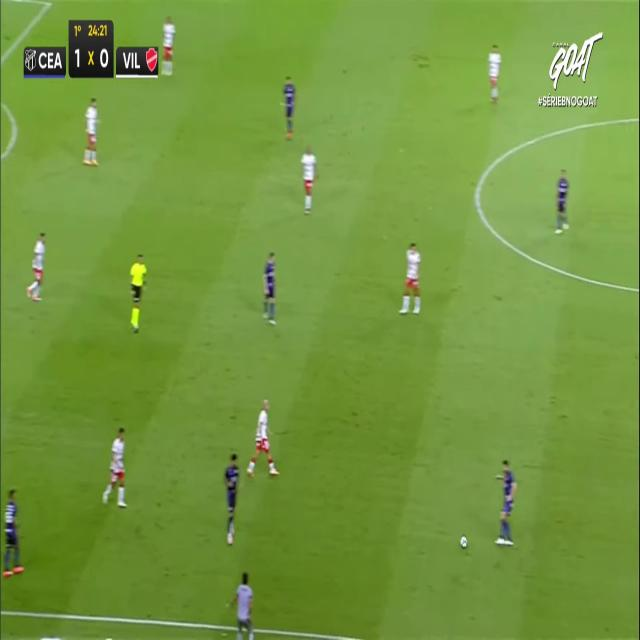ball: (460, 533, 467, 550)
player: (247, 397, 279, 476), (102, 427, 127, 507), (494, 458, 516, 543), (2, 489, 23, 576), (399, 241, 420, 315), (224, 452, 240, 544), (26, 231, 46, 301), (83, 97, 100, 165), (301, 144, 316, 213), (281, 75, 296, 138), (263, 251, 276, 323), (555, 167, 569, 232), (162, 14, 175, 77), (488, 43, 501, 101)
referee: (129, 252, 146, 333)
